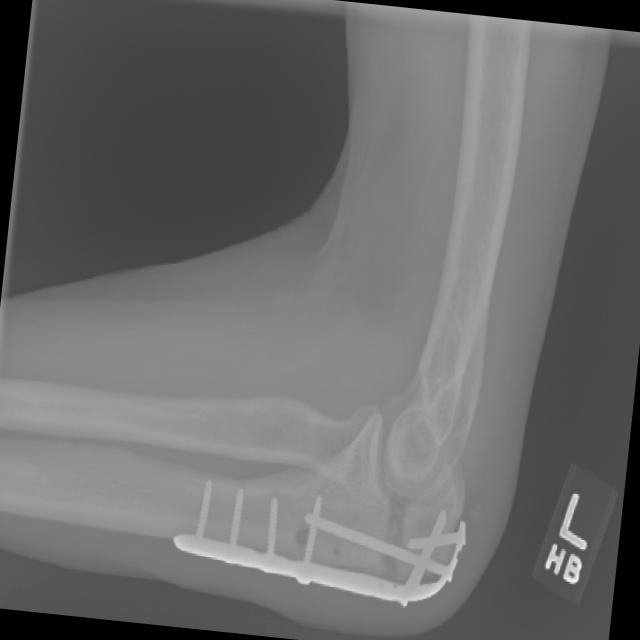elbow positive: (372, 488, 430, 550)
